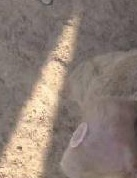text: (64, 117, 94, 156)
